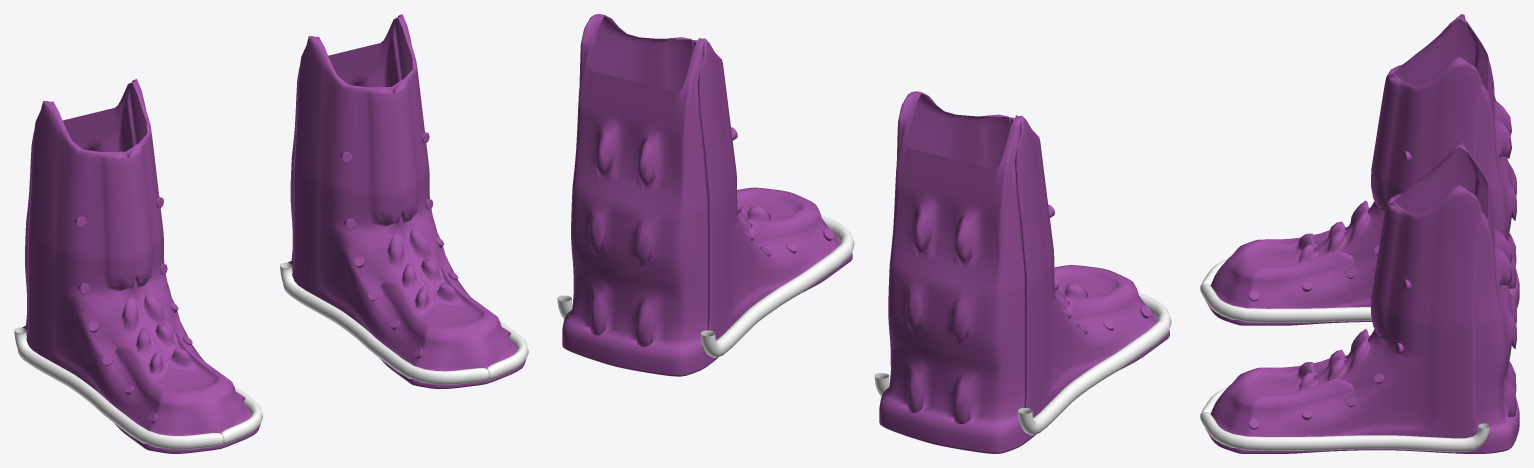
Rendered from GravMesh.fbx.
The picture shows the model from 3 angles, left to right: view 1: azimuth 30°, elevation 25°; view 2: azimuth 150°, elevation 25°; view 3: azimuth 270°, elevation 25°; orthographic projection. The views are drawn at different scales.
Visible parts, largest first — view 1: Gravity_Boots1; view 2: Gravity_Boots1; view 3: Gravity_Boots1.
Boxes of the visible parts, box(x1,y1,x2,y2) form: Gravity_Boots1: box(14, 14, 528, 453); Gravity_Boots1: box(557, 14, 1171, 453); Gravity_Boots1: box(1200, 14, 1519, 453).
Bounding box in the file's own units: 4.27 × 2.84 × 3.01.
